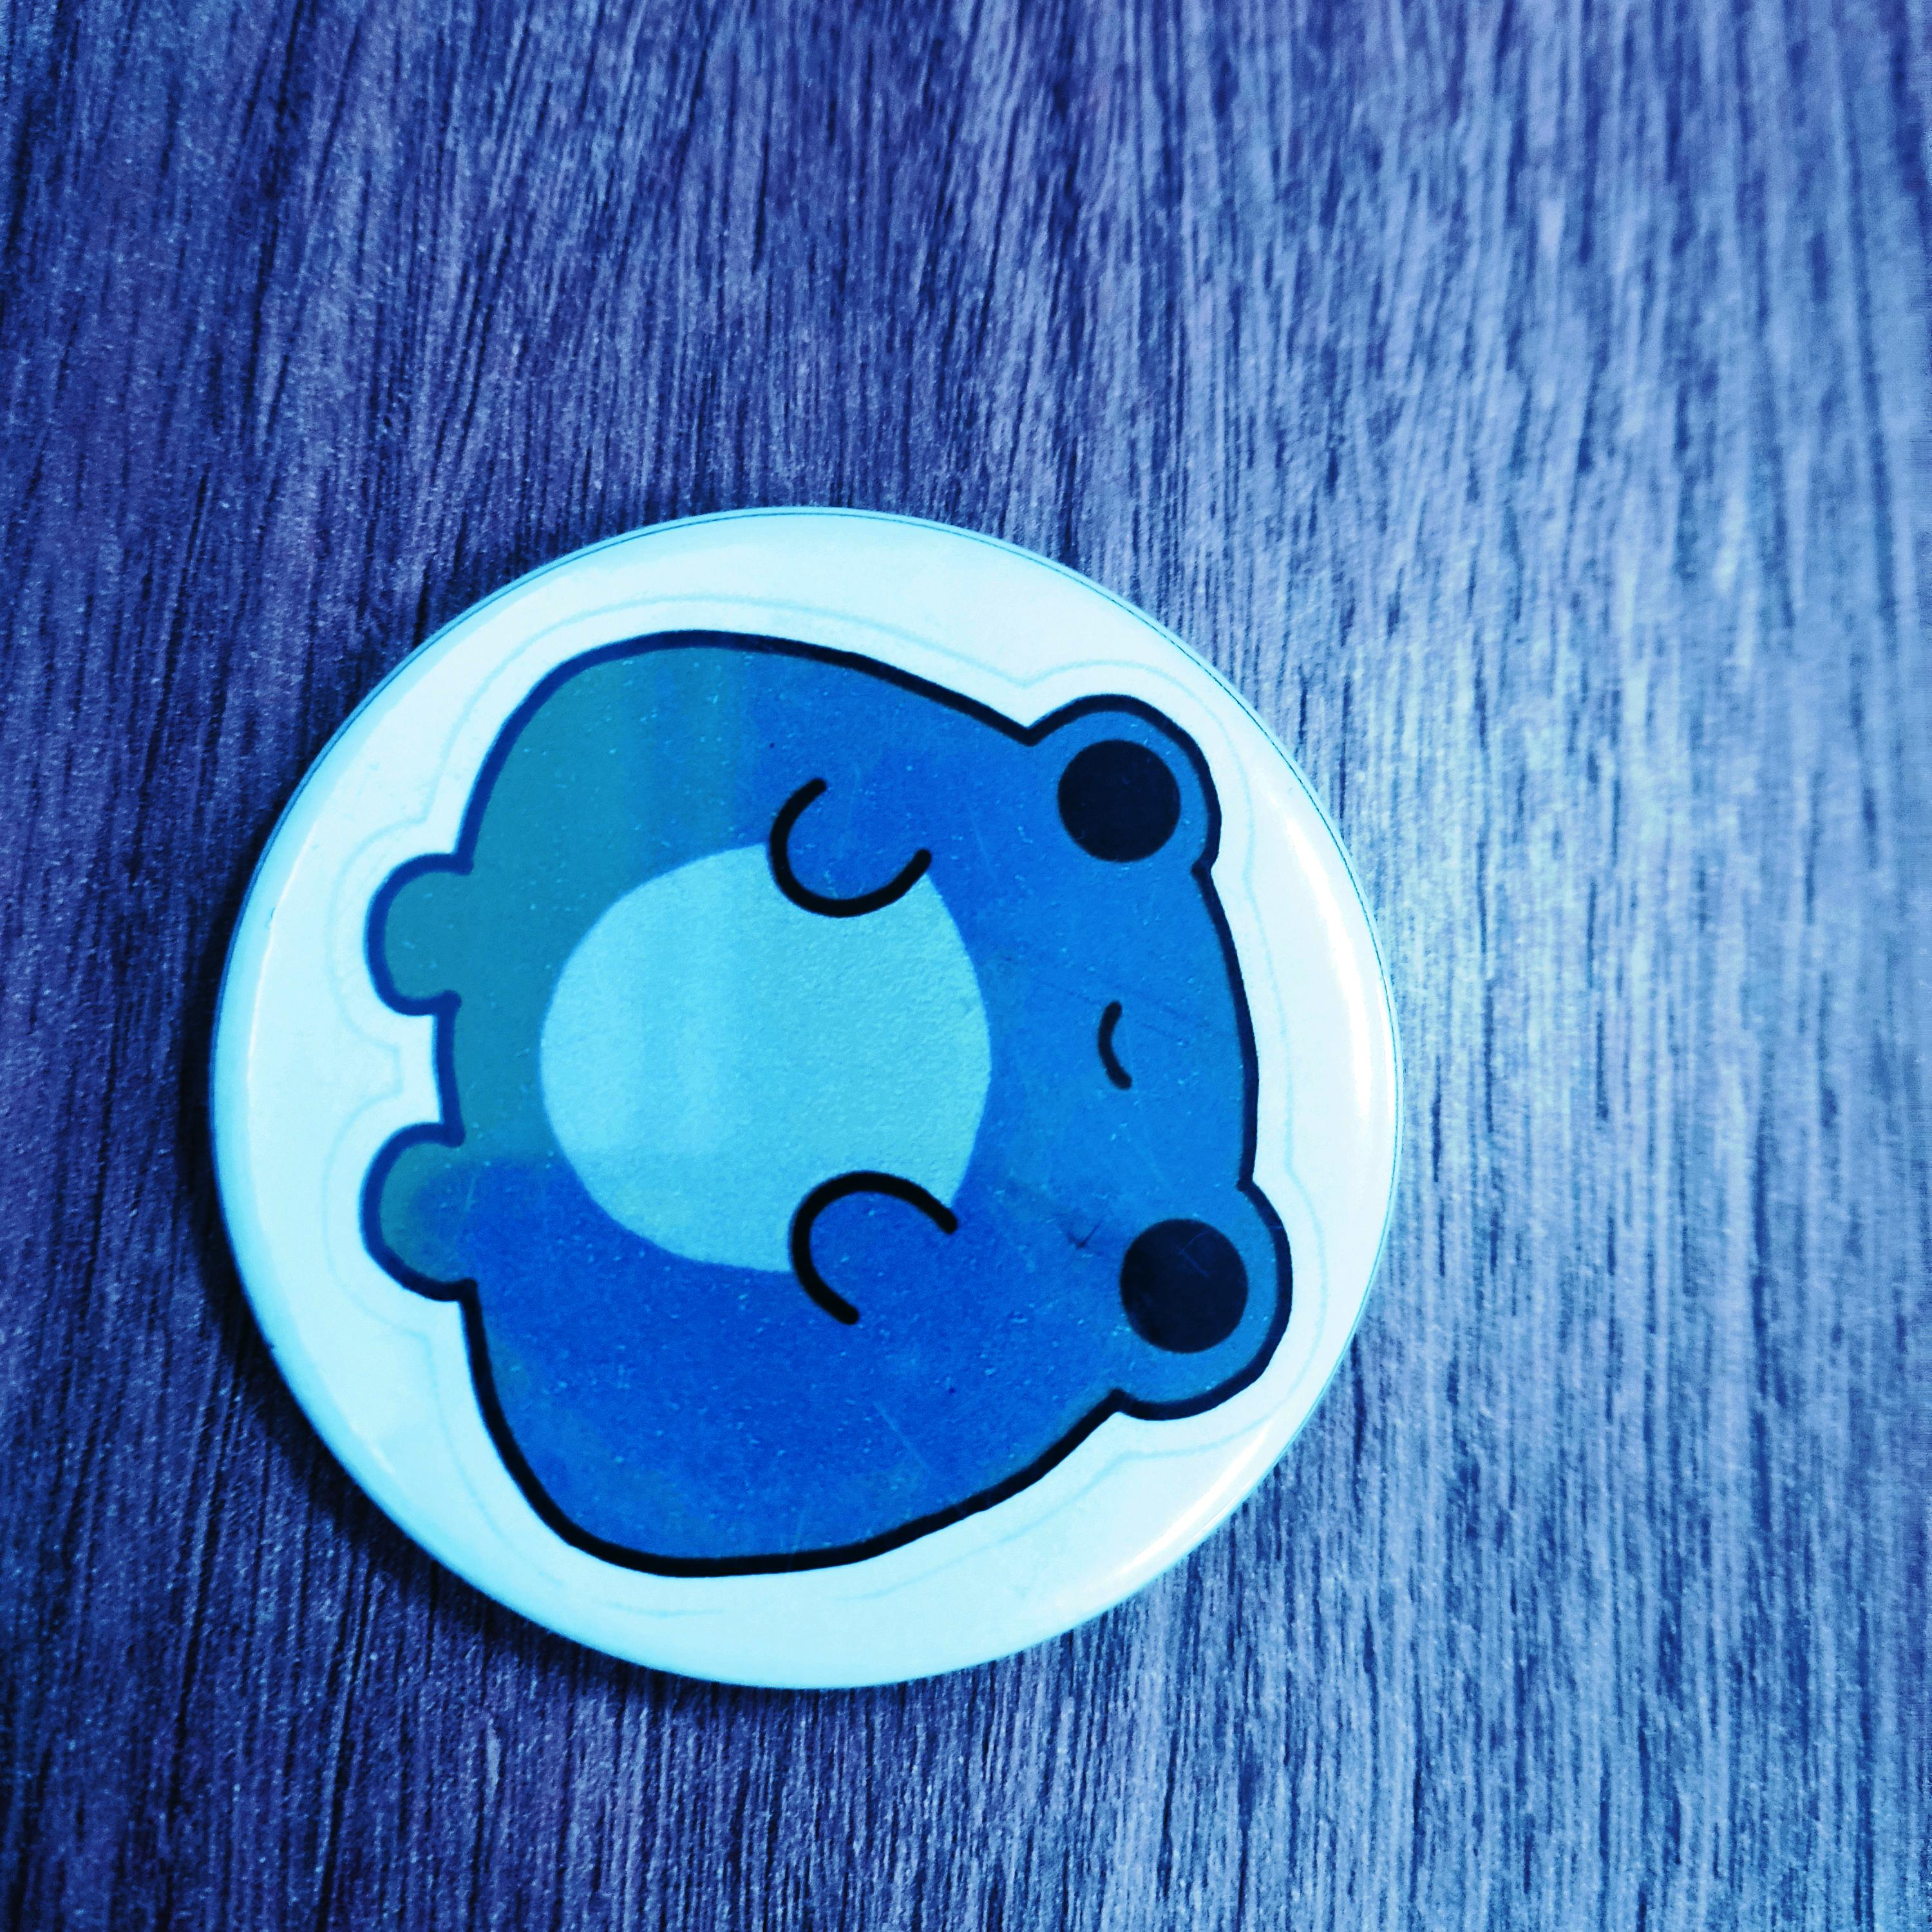pin: (180, 479, 1396, 1720)
